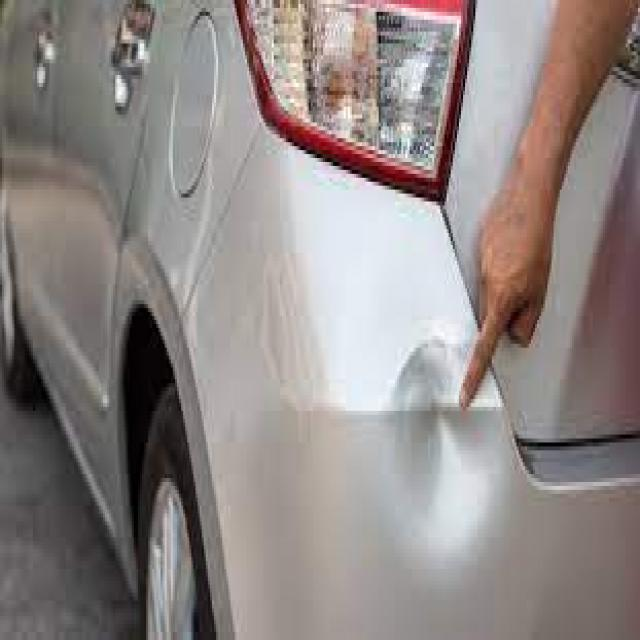minor: (383, 302, 561, 589)
